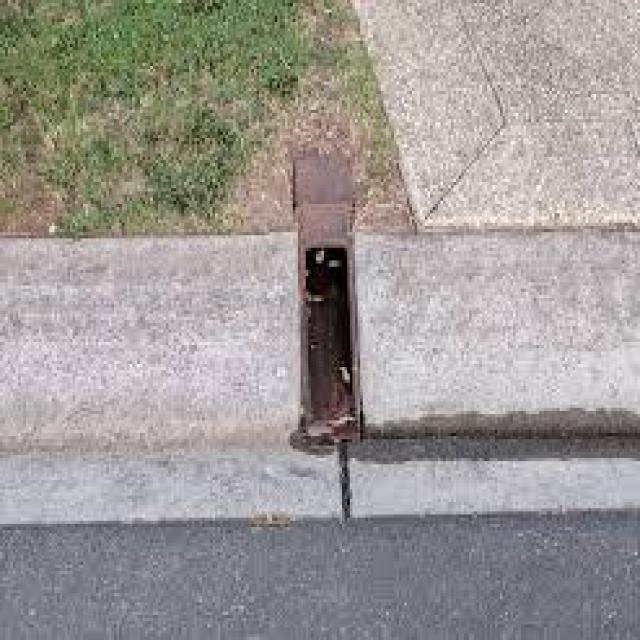curb: (1, 231, 640, 521)
